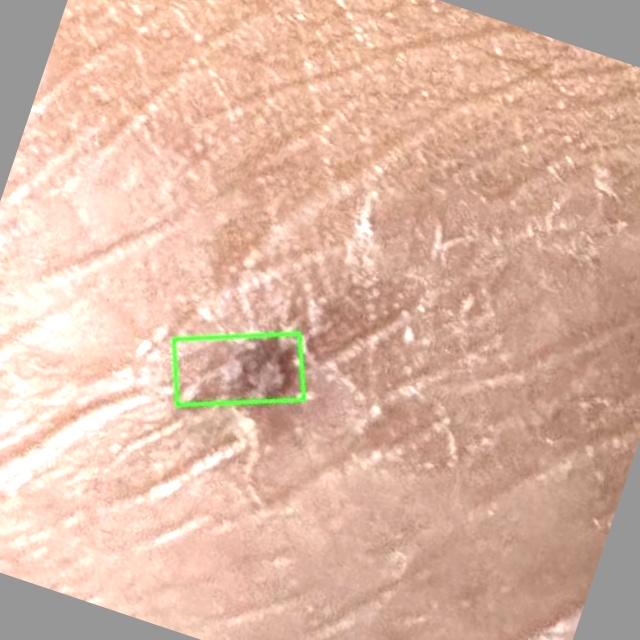Scabies: (173, 333, 302, 405)
